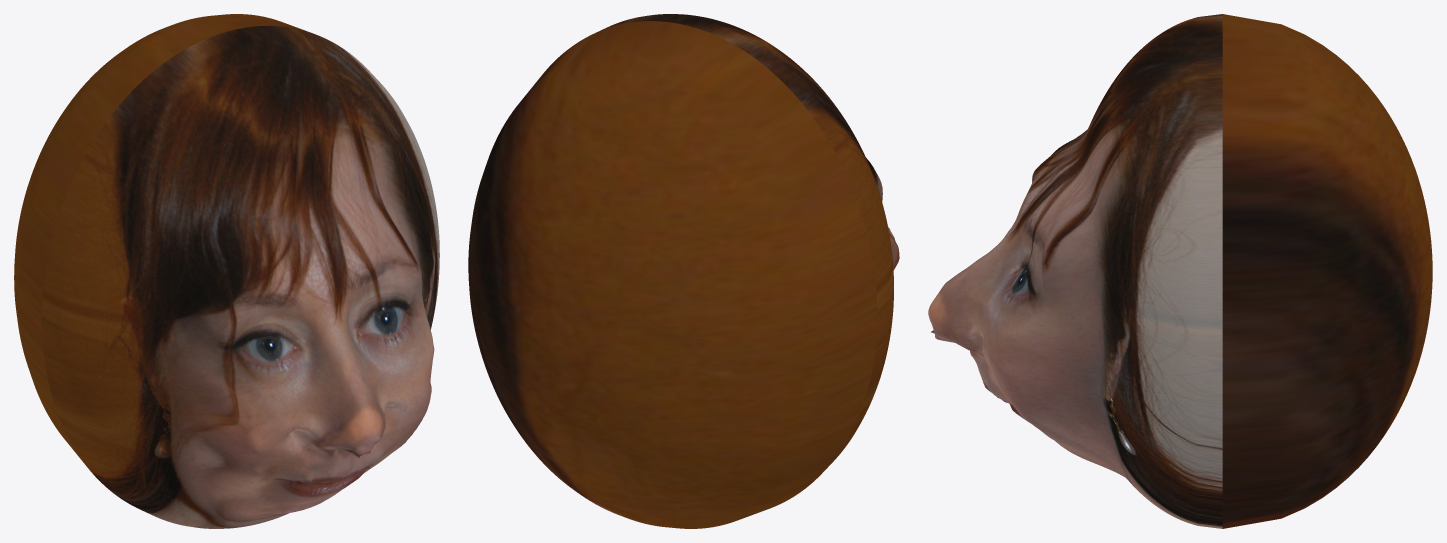
The model's file is vega_head.glb.
3 views of the same model, side by side, from view 1: azimuth 30°, elevation 25°; view 2: azimuth 150°, elevation 25°; view 3: azimuth 270°, elevation 25° (orthographic).
Parts seen in each view (by area): view 1: SuzanneVegaHead; view 2: SuzanneVegaHead; view 3: SuzanneVegaHead.
Part boxes in pixels (box(x1,y1,x2,y2)): SuzanneVegaHead: box(14, 14, 439, 528); SuzanneVegaHead: box(468, 14, 899, 528); SuzanneVegaHead: box(928, 14, 1432, 528).
Bounding box in the file's own units: 0.2368 × 0.2892 × 0.2747.
Materials: 1 (1 with a texture image).
